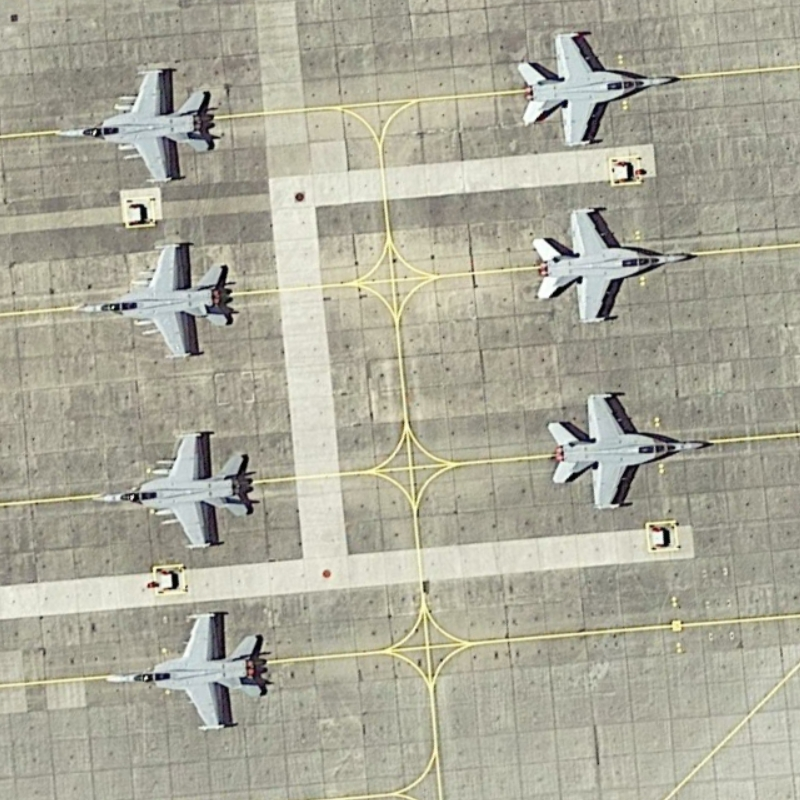A16: (95, 606, 278, 739), (521, 200, 700, 329), (43, 61, 222, 190), (537, 386, 713, 517), (64, 238, 238, 366), (85, 426, 256, 555), (513, 24, 681, 154)
